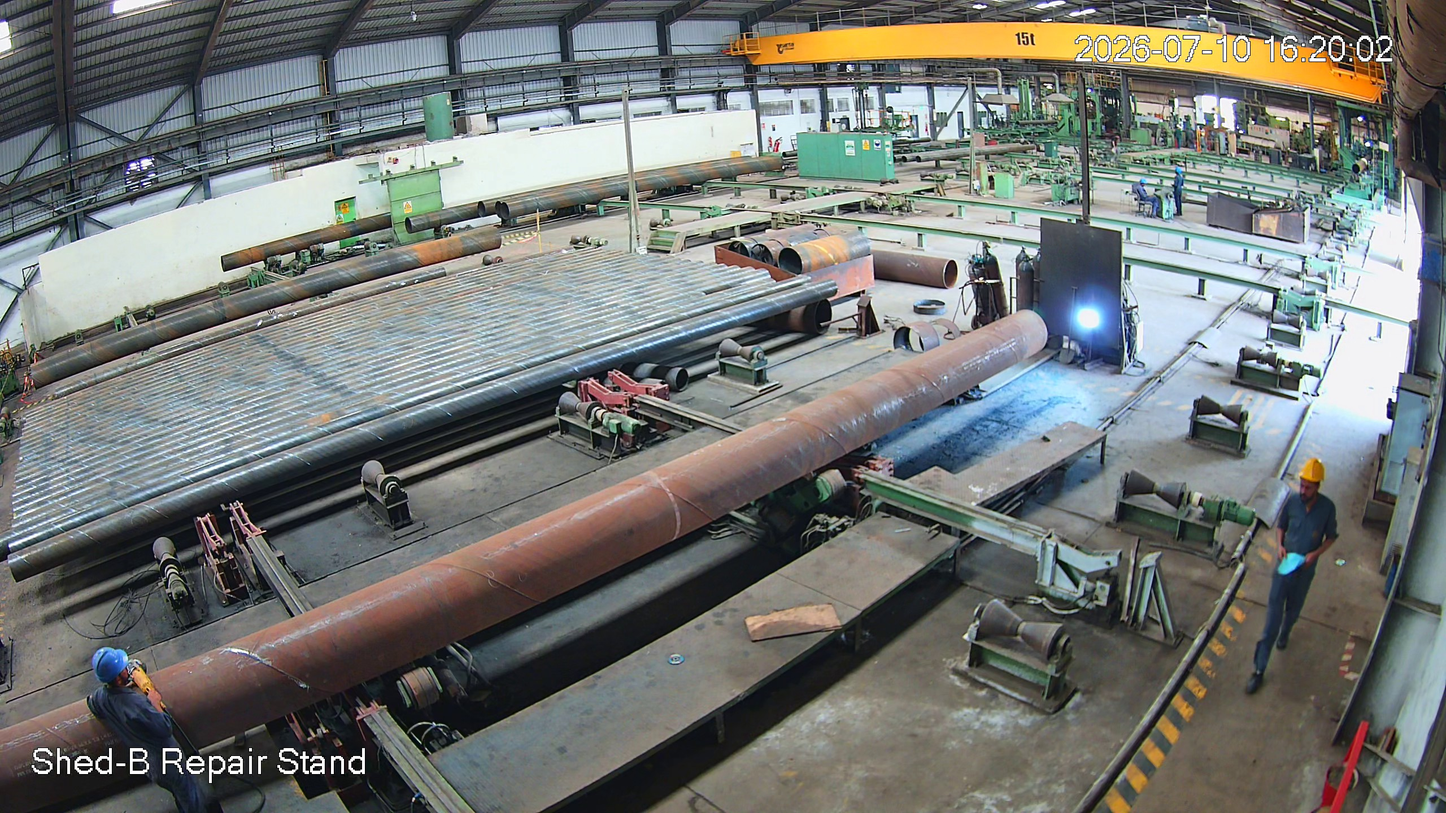Helmet: (84, 646, 161, 721), (1290, 449, 1334, 523)
Person: (1239, 455, 1344, 722), (78, 650, 219, 813)
